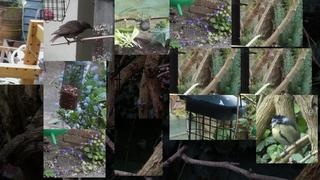blue tit: (270, 115, 299, 155)
sparrow: (136, 20, 150, 33)
starling: (49, 20, 94, 45)
